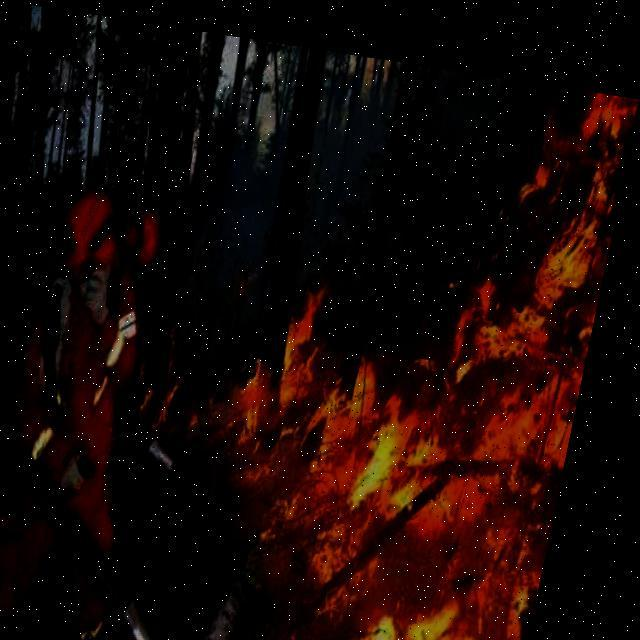Fire: (222, 46, 637, 639)
